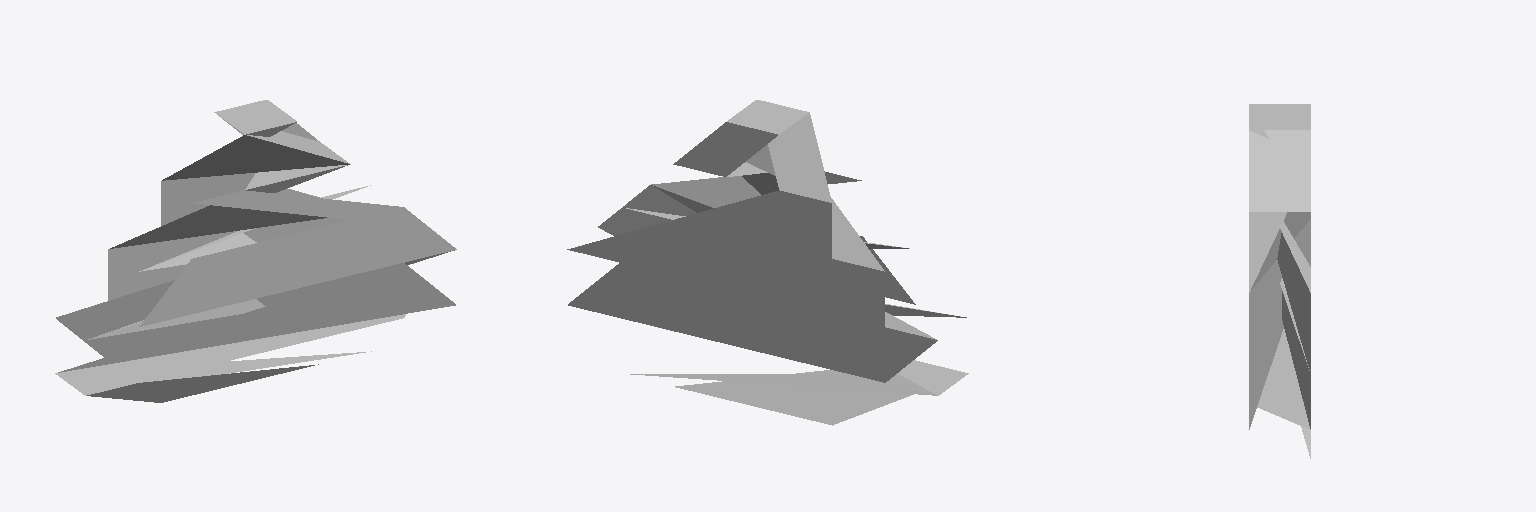
File: Wall Pendant Mirror.obj
The picture shows the model from 3 angles: view 1: azimuth 30°, elevation 25°; view 2: azimuth 150°, elevation 25°; view 3: azimuth 270°, elevation 25°; orthographic projection.
Bounding box in the file's own units: 7 × 5 × 1.